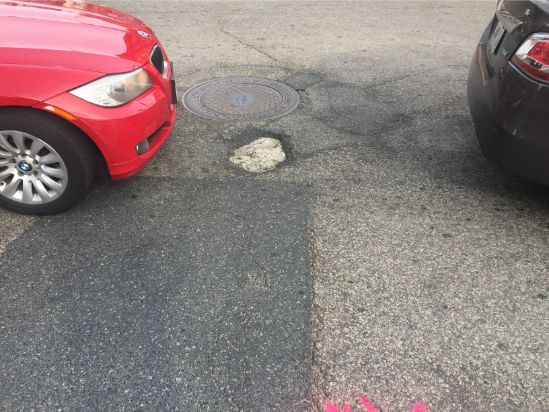pothole: (223, 127, 295, 176)
